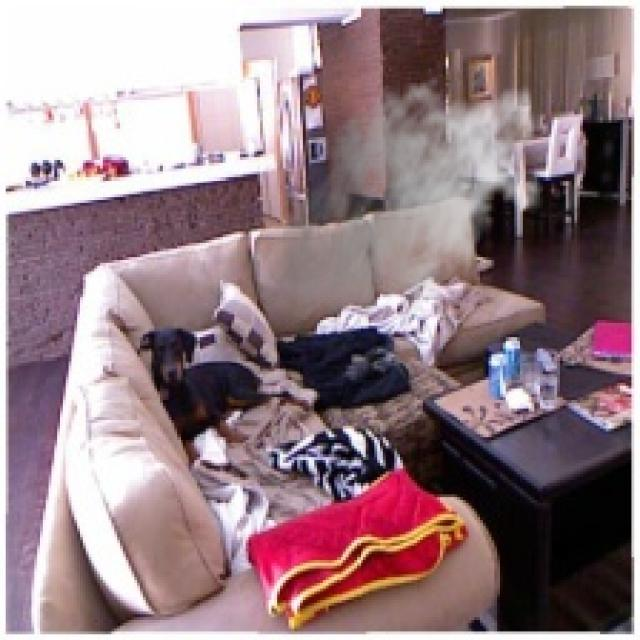smoke: (274, 71, 543, 346)
